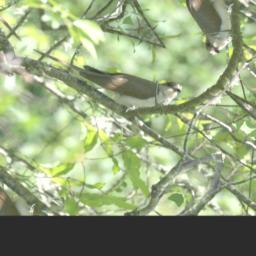Cuckoo: (30, 7, 186, 131)
